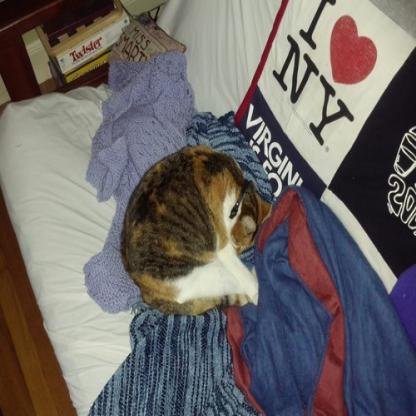Target: (119, 144, 275, 321)
